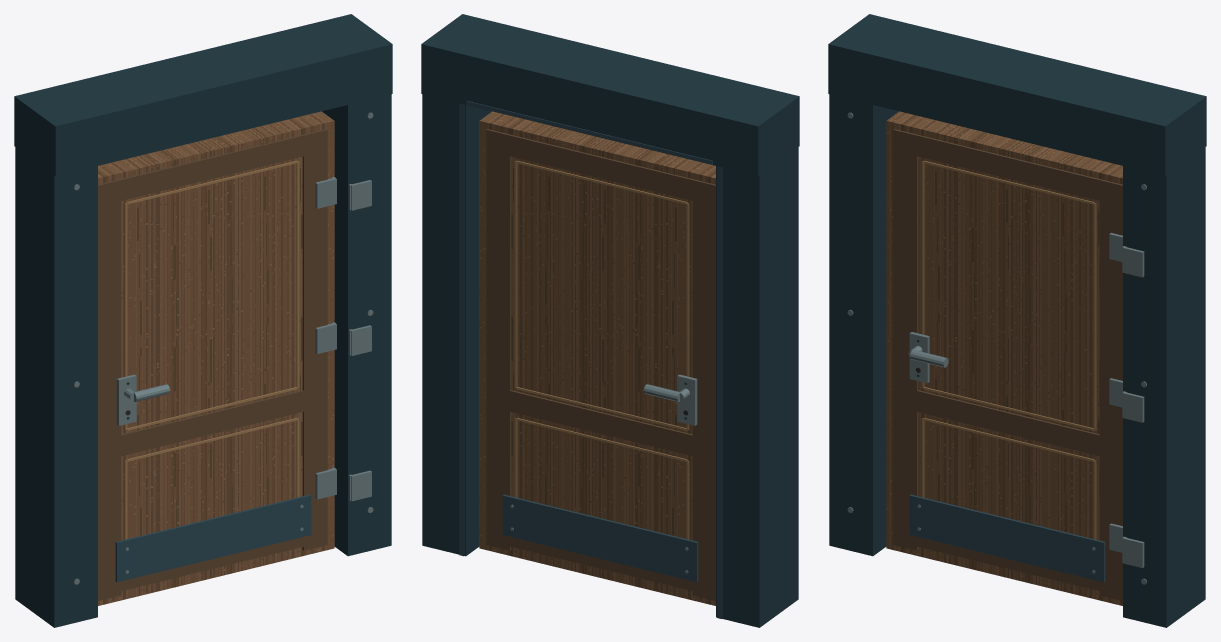
Rendered from school_door.glb.
The picture shows the model from 3 angles, left to right: view 1: azimuth 30°, elevation 25°; view 2: azimuth 150°, elevation 25°; view 3: azimuth 330°, elevation 25°; orthographic projection.
Parts seen in each view (by area): view 1: b_deco_fire_door_leaf, Door fixed jamb 1, Door fixed lintel, Door fixed jamb -1, Leaf stile -1 1.14, Leaf stile -1 0.10, Door lower kick plate -1, Leaf cross rail -1 1.98, Leaf cross rail -1 0.75, Leaf cross rail -1 0.10, Fine panel edge -1 1.36 0.19, Door handle backplate -1 (+10 smaller); view 2: b_deco_fire_door_leaf, Door fixed jamb 1, Door fixed lintel, Door fixed jamb -1, Leaf stile 1 0.10, Leaf stile 1 1.14, Door lower kick plate 1, Leaf cross rail 1 1.98, Leaf cross rail 1 0.75, Door jamb fine edge -1, Door jamb fine edge 1, Leaf cross rail 1 0.10 (+7 smaller); view 3: b_deco_fire_door_leaf, Door fixed jamb -1, Door fixed lintel, Door fixed jamb 1, Leaf stile -1 1.14, Leaf stile -1 0.10, Door lower kick plate -1, Leaf cross rail -1 1.98, Leaf cross rail -1 0.75, Leaf cross rail -1 0.10, Fine panel edge -1 1.36 0.19, Door handle backplate -1 (+7 smaller).
Boxes of the visible parts, left/top/right/bottom form: b_deco_fire_door_leaf: left=98, top=111, right=334, bottom=605; Door fixed jamb 1: left=15, top=147, right=97, bottom=627; Door fixed lintel: left=14, top=14, right=392, bottom=176; Door fixed jamb -1: left=322, top=94, right=391, bottom=556; Leaf stile -1 1.14: left=98, top=179, right=121, bottom=600; Leaf stile -1 0.10: left=302, top=129, right=327, bottom=550; Door lower kick plate -1: left=115, top=494, right=311, bottom=582; Leaf cross rail -1 1.98: left=121, top=135, right=303, bottom=200; Leaf cross rail -1 0.75: left=121, top=390, right=303, bottom=455; Leaf cross rail -1 0.10: left=121, top=537, right=303, bottom=590; Fine panel edge -1 1.36 0.19: left=296, top=161, right=299, bottom=388; Door handle backplate -1: left=116, top=374, right=136, bottom=425; b_deco_fire_door_leaf: left=479, top=111, right=715, bottom=605; Door fixed jamb 1: left=716, top=147, right=798, bottom=627; Door fixed lintel: left=421, top=14, right=799, bottom=176; Door fixed jamb -1: left=422, top=94, right=491, bottom=556; Leaf stile 1 0.10: left=486, top=129, right=511, bottom=550; Leaf stile 1 1.14: left=692, top=179, right=715, bottom=600; Door lower kick plate 1: left=502, top=494, right=698, bottom=582; Leaf cross rail 1 1.98: left=510, top=135, right=692, bottom=200; Leaf cross rail 1 0.75: left=510, top=390, right=692, bottom=455; Door jamb fine edge -1: left=459, top=103, right=464, bottom=556; Door jamb fine edge 1: left=717, top=166, right=722, bottom=618; Leaf cross rail 1 0.10: left=510, top=537, right=692, bottom=590; b_deco_fire_door_leaf: left=886, top=111, right=1122, bottom=605; Door fixed jamb -1: left=1123, top=122, right=1205, bottom=627; Door fixed lintel: left=828, top=14, right=1206, bottom=176; Door fixed jamb 1: left=829, top=94, right=898, bottom=556; Leaf stile -1 1.14: left=893, top=129, right=918, bottom=550; Leaf stile -1 0.10: left=1099, top=179, right=1122, bottom=600; Door lower kick plate -1: left=909, top=494, right=1105, bottom=582; Leaf cross rail -1 1.98: left=917, top=135, right=1099, bottom=200; Leaf cross rail -1 0.75: left=917, top=390, right=1099, bottom=455; Leaf cross rail -1 0.10: left=917, top=537, right=1099, bottom=590; Fine panel edge -1 1.36 0.19: left=1093, top=203, right=1096, bottom=430; Door handle backplate -1: left=909, top=332, right=929, bottom=383.
Size of the model in its own units: 1.7 by 2.42 by 0.373.
7 materials, 1 textured.
